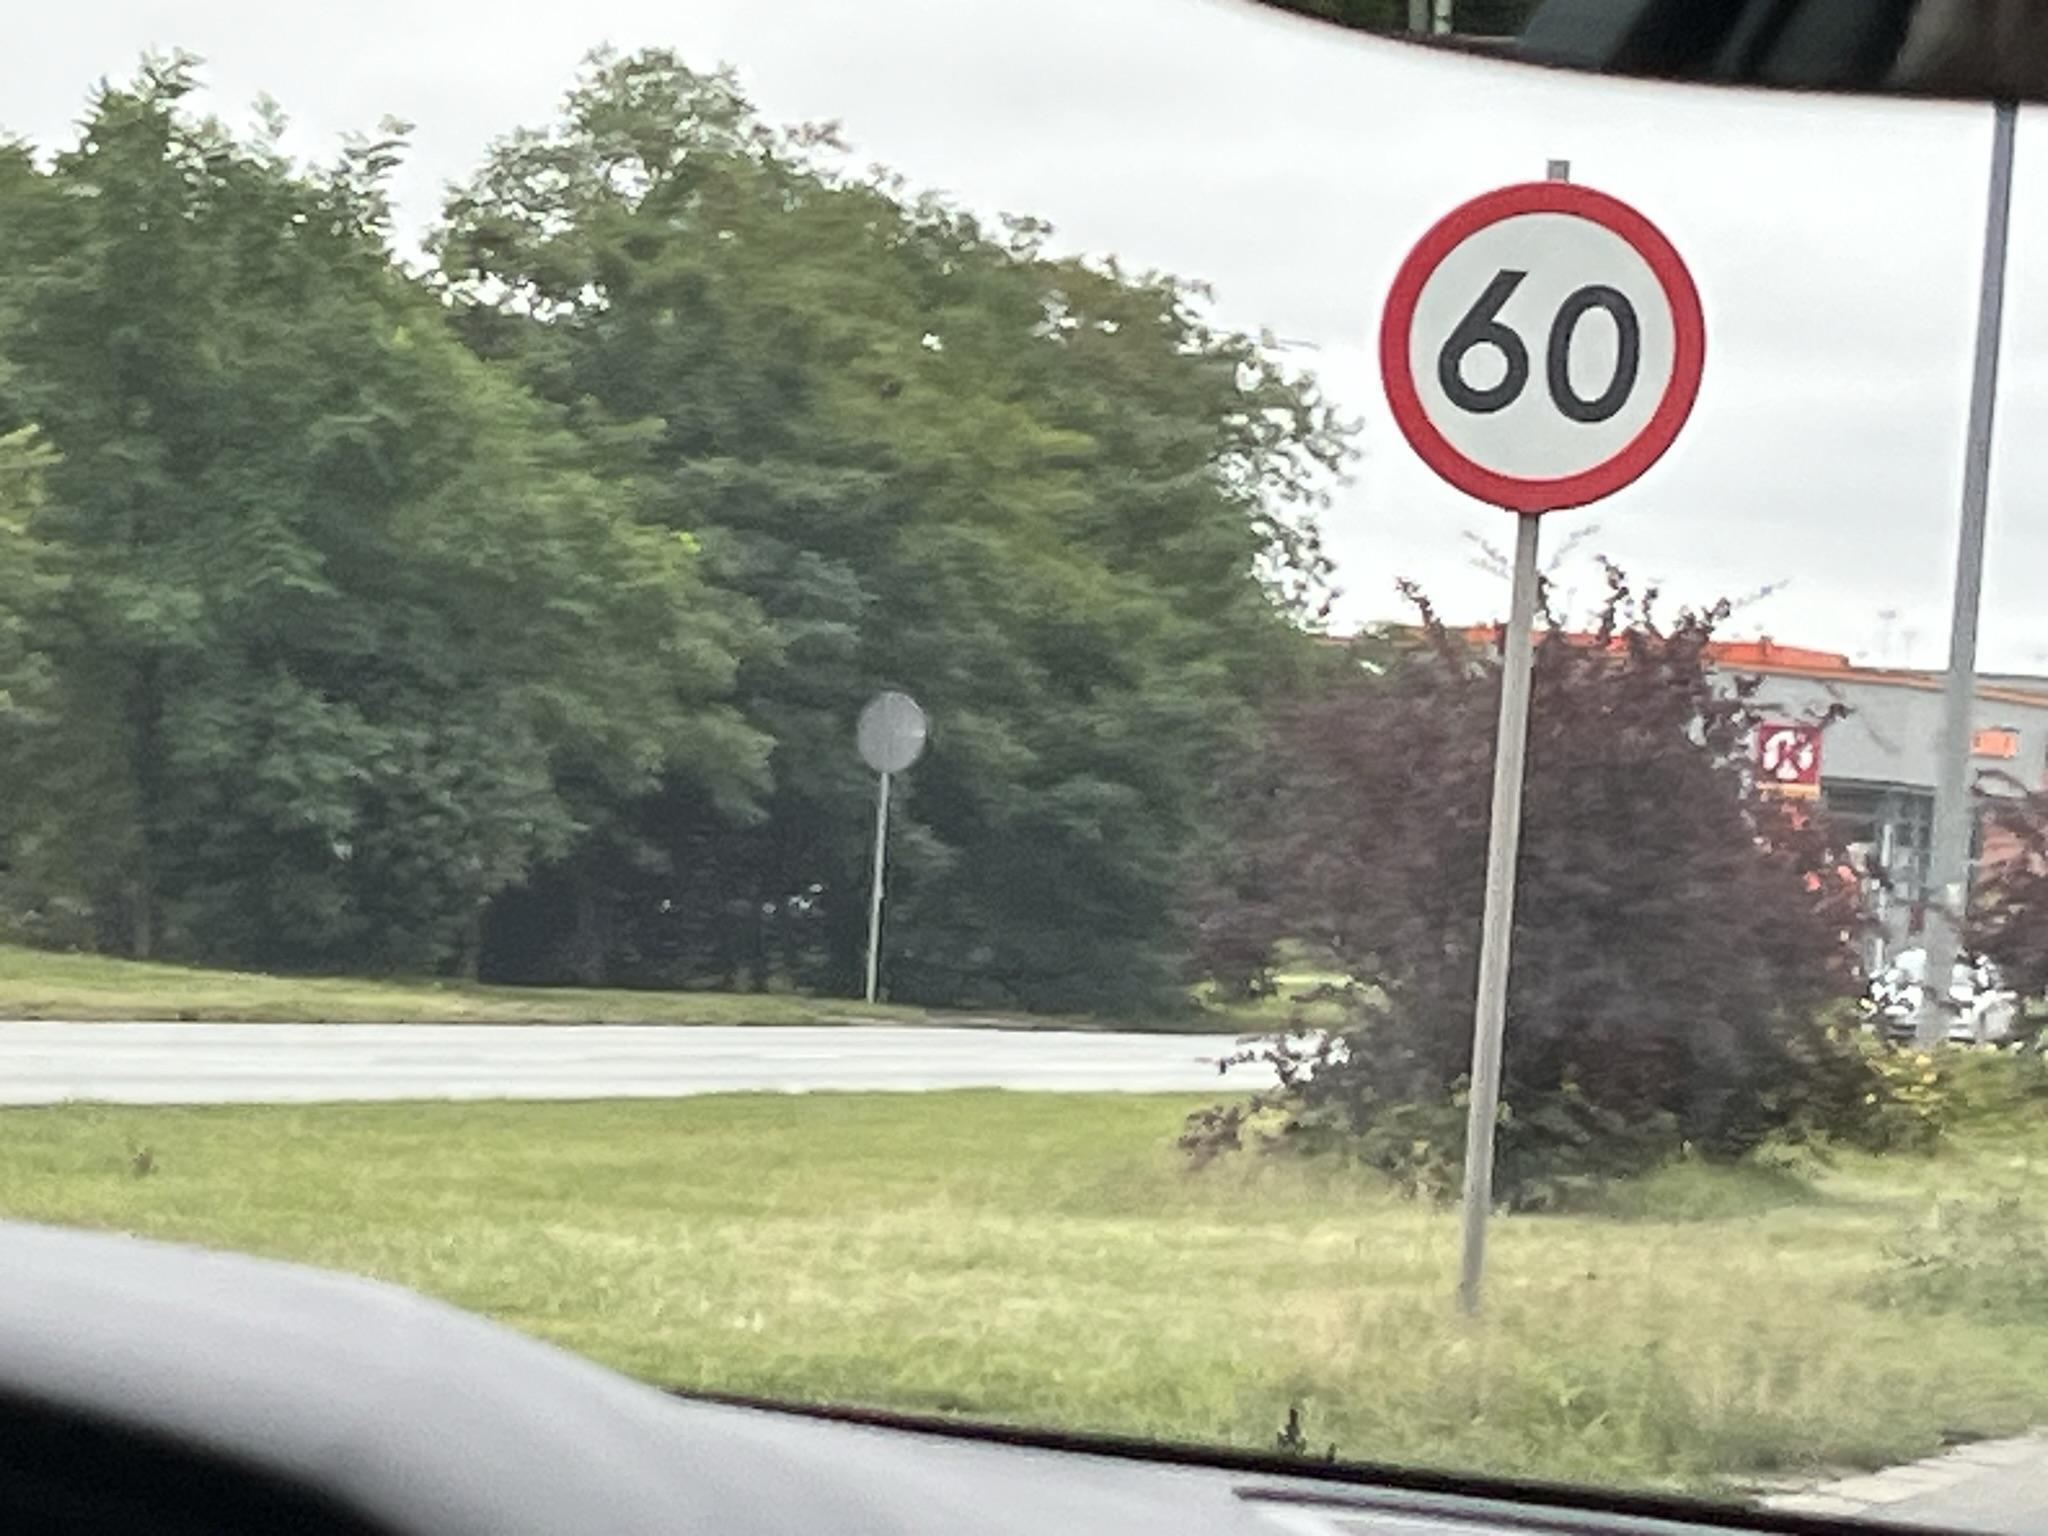prohibitory: (1374, 177, 1709, 518)
